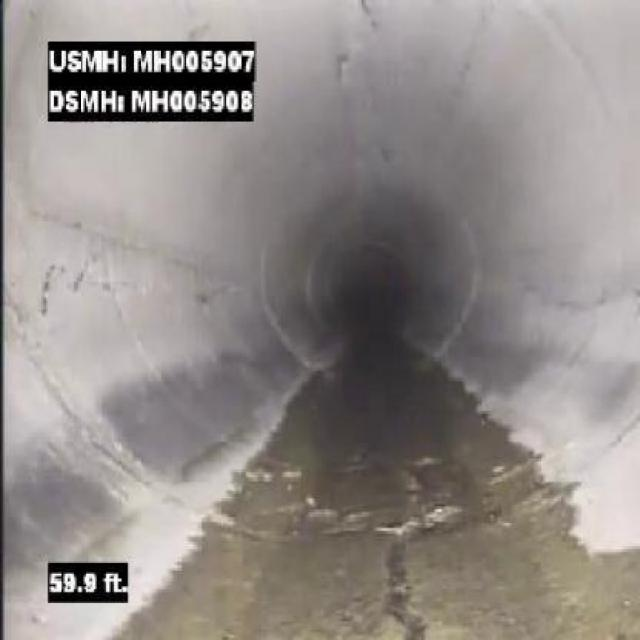Buckling: (360, 524, 454, 638), (397, 458, 452, 531)
Crack: (28, 249, 122, 320), (554, 279, 628, 323), (180, 276, 248, 322), (354, 1, 388, 44), (334, 43, 355, 94)
